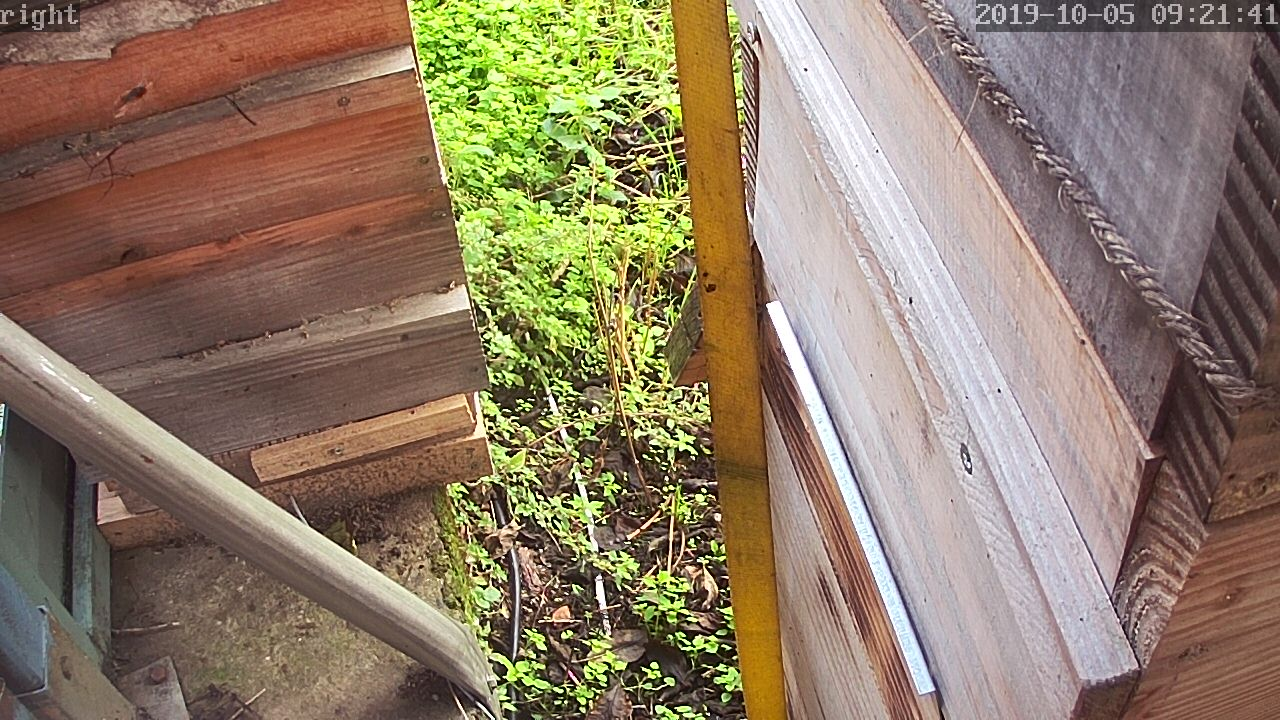hornet: (644, 251, 686, 297), (696, 448, 728, 493)
